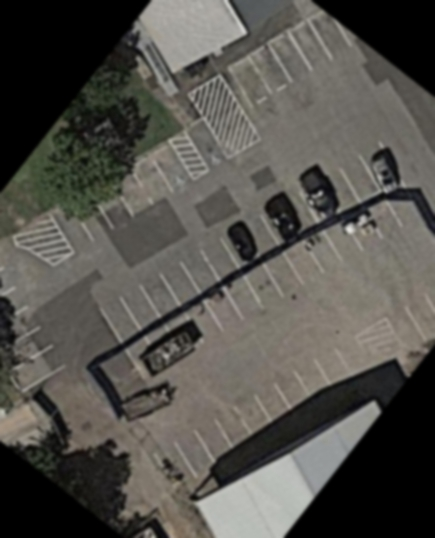parkingspot: (95, 140, 406, 348), (150, 344, 363, 496), (180, 220, 367, 346), (47, 141, 195, 257), (222, 8, 357, 115), (0, 264, 69, 395), (382, 285, 435, 358), (182, 117, 232, 175)
